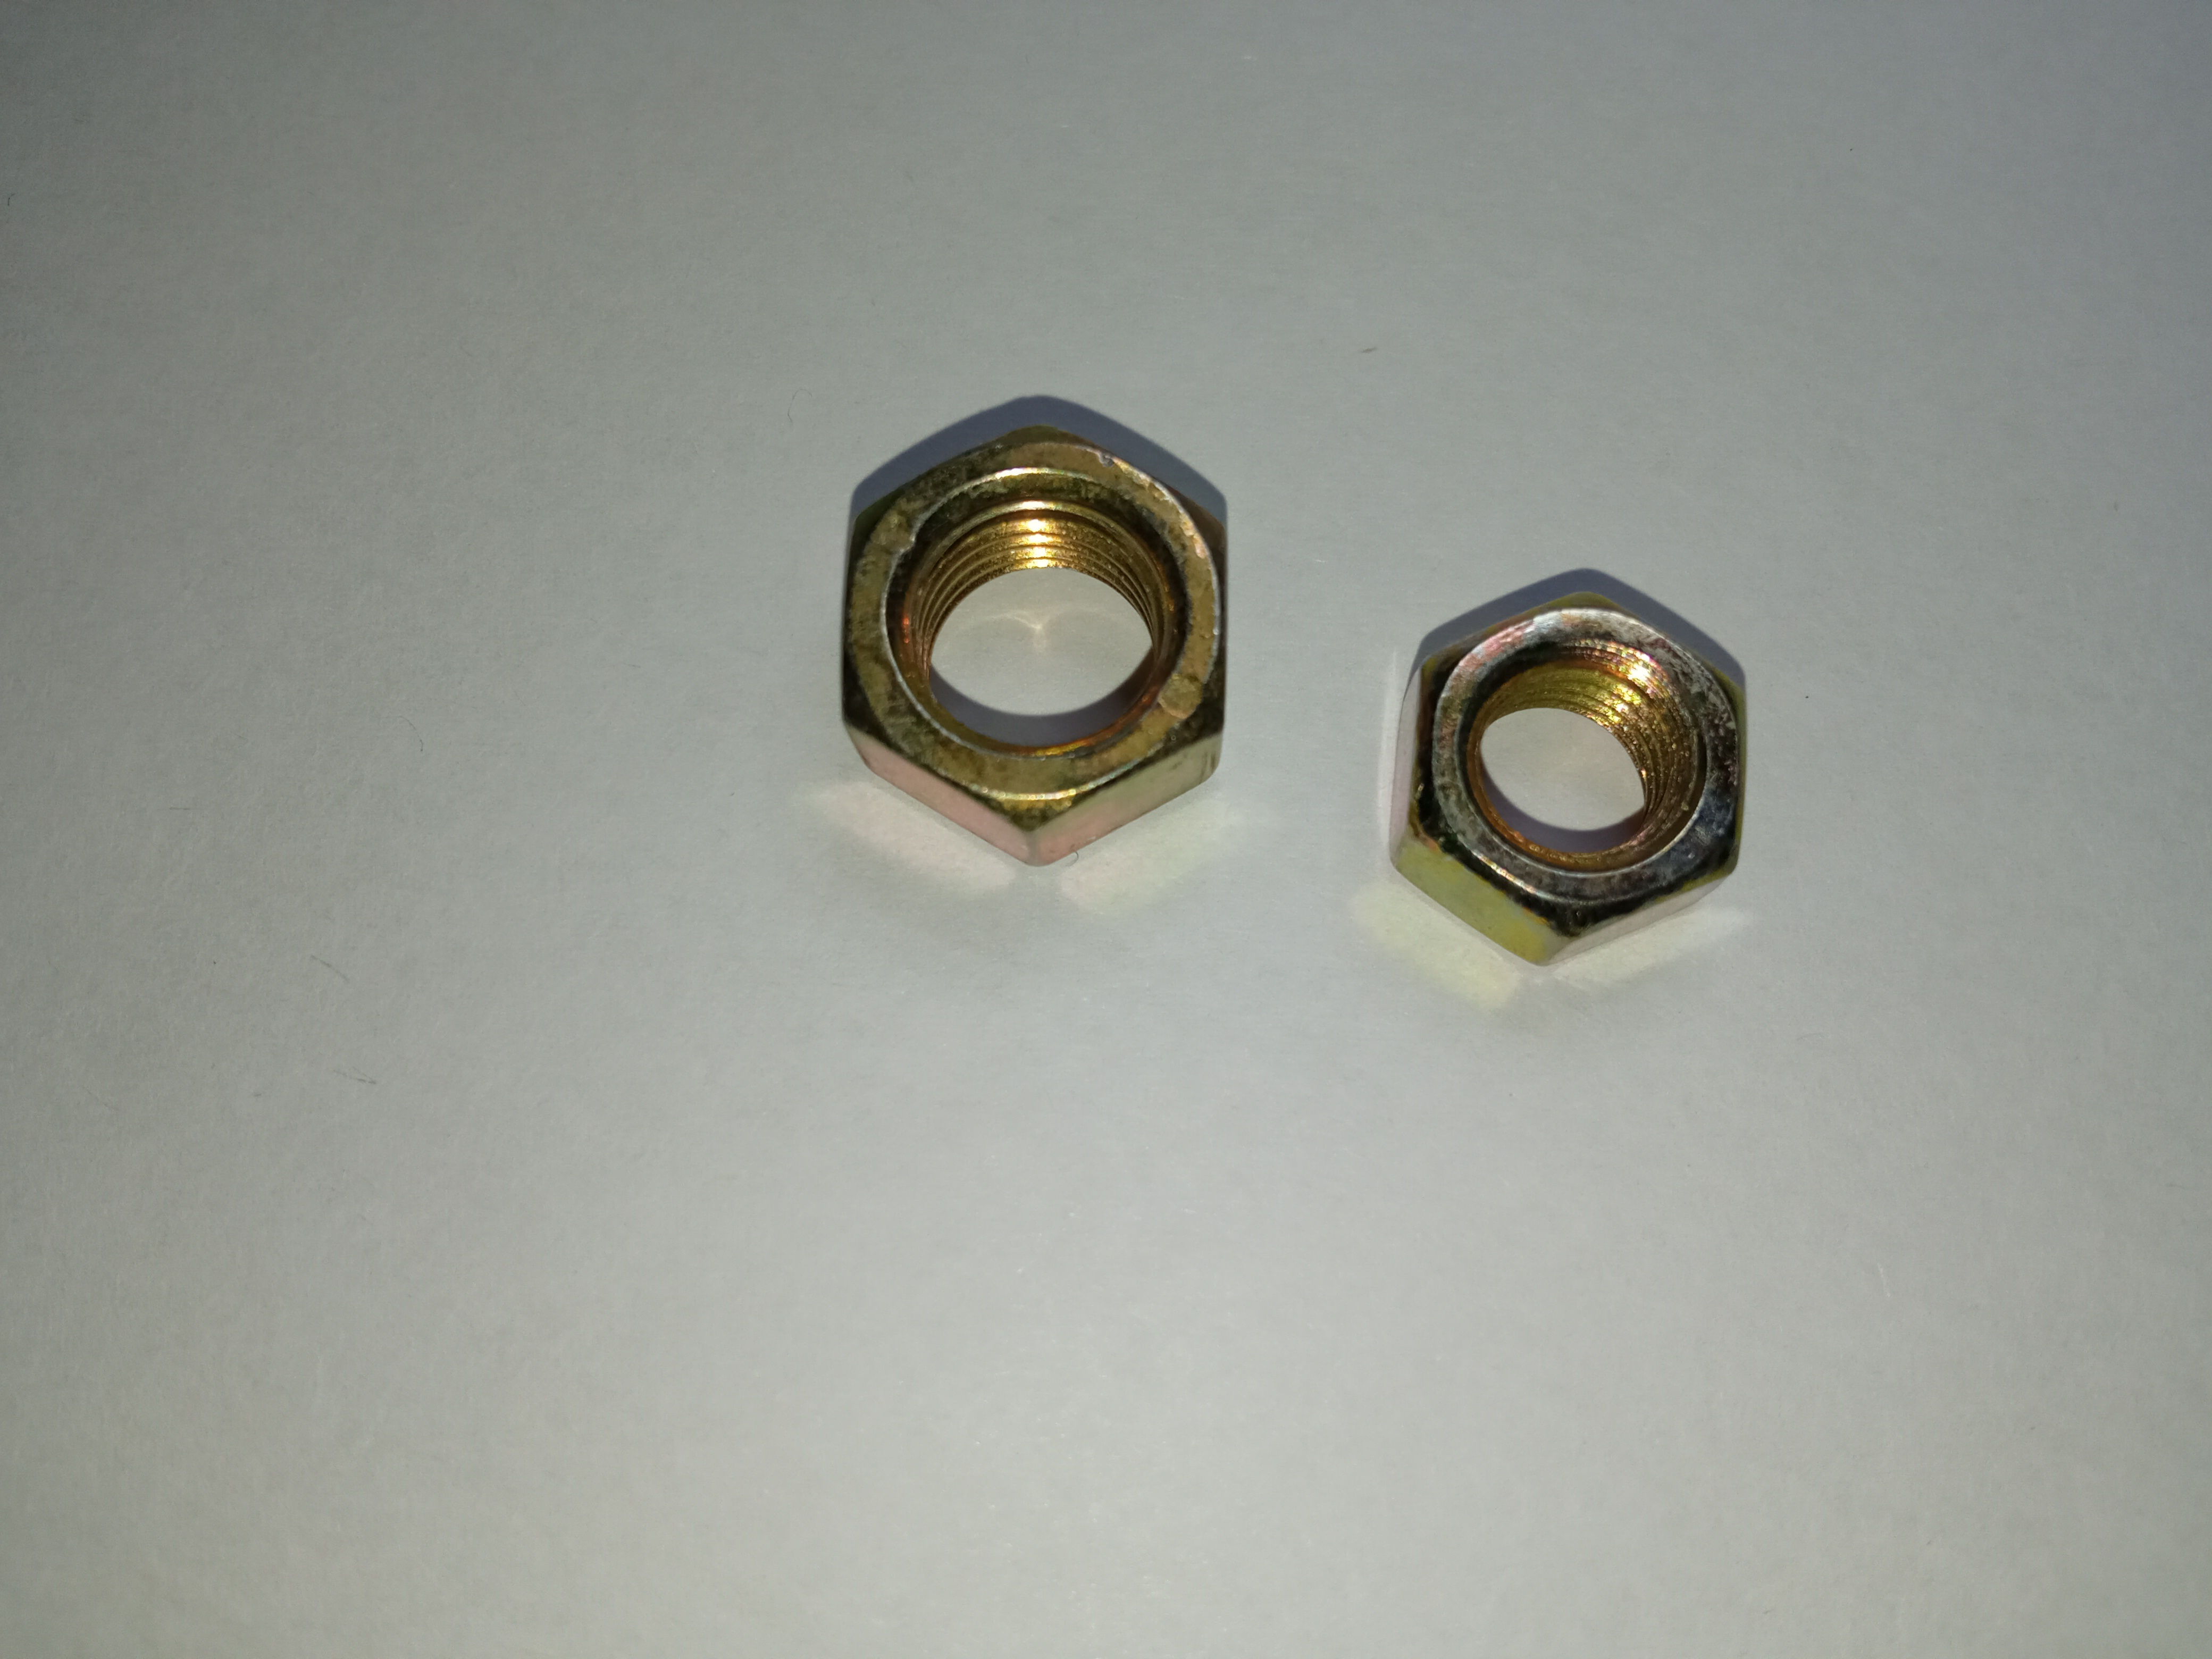m10: (838, 436, 1223, 803)
m8: (1402, 599, 1749, 951)
